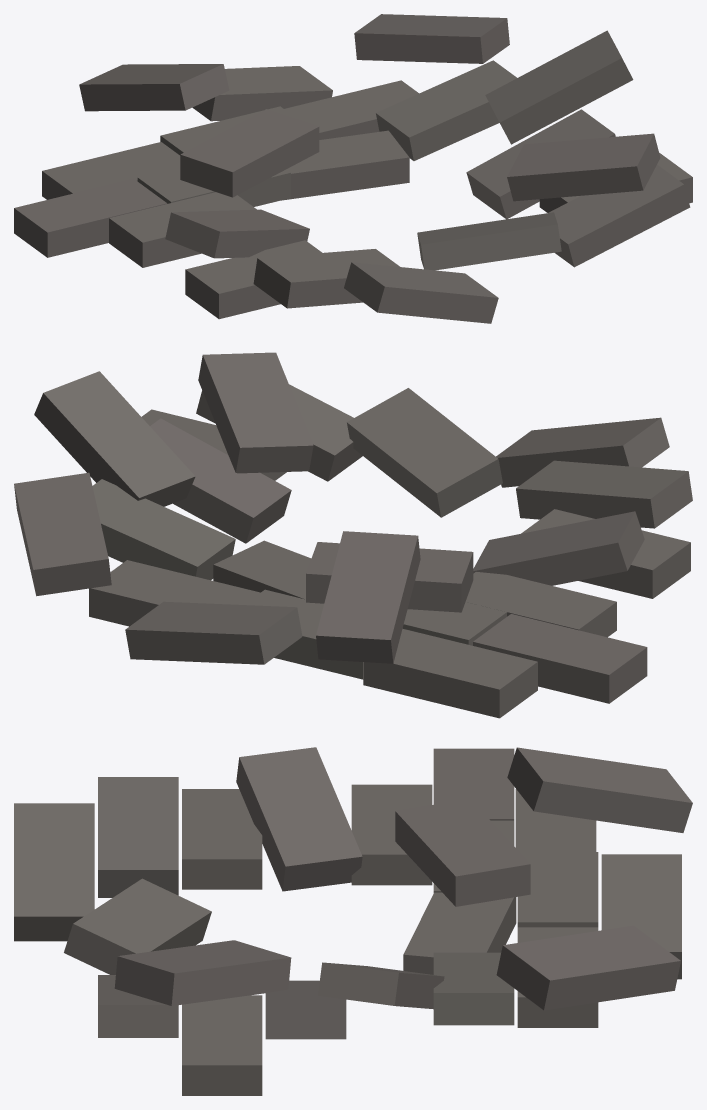
Rendered from Entry-Tiles.fbx.
The picture shows the model from 3 angles, top to bottom: view 1: azimuth 30°, elevation 25°; view 2: azimuth 150°, elevation 25°; view 3: azimuth 270°, elevation 25°; orthographic projection. The views are drawn at different scales.
Parts seen in each view (by area): view 1: Entry-Tile.17, Entry-Tile.05, Entry-Tile.04, Entry-Tile.11, Entry-Tile.22, Entry-Tile.13, Entry-Tile.19, Entry-Tile.08, Entry-Tile.18, Entry-Tile.10, Entry-Tile.21, Entry-Tile.14 (+10 smaller); view 2: Entry-Tile.05, Entry-Tile.21, Entry-Tile.18, Entry-Tile.17, Entry-Tile.01, Entry-Tile.07, Entry-Tile.13, Entry-Tile.08, Entry-Tile.20, Entry-Tile.14, Entry-Tile.11, Entry-Tile.12 (+10 smaller); view 3: Entry-Tile.14, Entry-Tile.13, Entry-Tile.19, Entry-Tile.18, Entry-Tile.04, Entry-Tile.20, Entry-Tile.17, Entry-Tile.21, Entry-Tile.16, Entry-Tile.15, Entry-Tile.07, Entry-Tile.06 (+9 smaller).
Boxes of the visible parts, left/top/right/bottom form: Entry-Tile.17: left=507, top=133, right=660, bottom=201; Entry-Tile.05: left=485, top=30, right=633, bottom=144; Entry-Tile.04: left=180, top=109, right=319, bottom=197; Entry-Tile.11: left=376, top=60, right=516, bottom=160; Entry-Tile.22: left=548, top=165, right=690, bottom=267; Entry-Tile.13: left=354, top=14, right=509, bottom=63; Entry-Tile.19: left=344, top=262, right=498, bottom=323; Entry-Tile.08: left=14, top=179, right=167, bottom=257; Entry-Tile.18: left=79, top=64, right=229, bottom=111; Entry-Tile.10: left=281, top=130, right=409, bottom=200; Entry-Tile.21: left=417, top=212, right=561, bottom=270; Entry-Tile.14: left=165, top=209, right=309, bottom=258; Entry-Tile.05: left=34, top=371, right=195, bottom=506; Entry-Tile.21: left=347, top=388, right=502, bottom=517; Entry-Tile.18: left=316, top=531, right=420, bottom=663; Entry-Tile.17: left=198, top=352, right=313, bottom=473; Entry-Tile.01: left=363, top=628, right=537, bottom=718; Entry-Tile.07: left=125, top=601, right=302, bottom=664; Entry-Tile.13: left=14, top=472, right=111, bottom=596; Entry-Tile.08: left=473, top=614, right=647, bottom=703; Entry-Tile.20: left=516, top=460, right=692, bottom=528; Entry-Tile.14: left=473, top=511, right=644, bottom=585; Entry-Tile.11: left=92, top=479, right=235, bottom=580; Entry-Tile.12: left=150, top=418, right=291, bottom=543; Entry-Tile.14: left=236, top=747, right=362, bottom=891; Entry-Tile.13: left=496, top=925, right=680, bottom=1010; Entry-Tile.19: left=14, top=803, right=94, bottom=941; Entry-Tile.18: left=507, top=747, right=692, bottom=832; Entry-Tile.04: left=395, top=799, right=530, bottom=906; Entry-Tile.20: left=98, top=777, right=178, bottom=897; Entry-Tile.17: left=114, top=940, right=291, bottom=1005; Entry-Tile.21: left=64, top=878, right=211, bottom=974; Entry-Tile.16: left=182, top=995, right=262, bottom=1095; Entry-Tile.15: left=182, top=789, right=262, bottom=889; Entry-Tile.07: left=601, top=854, right=681, bottom=979; Entry-Tile.06: left=351, top=784, right=432, bottom=885.
Size of the model in its own units: 4.59 by 0.8954 by 4.04.
Materials: 1 (1 with a texture image).
